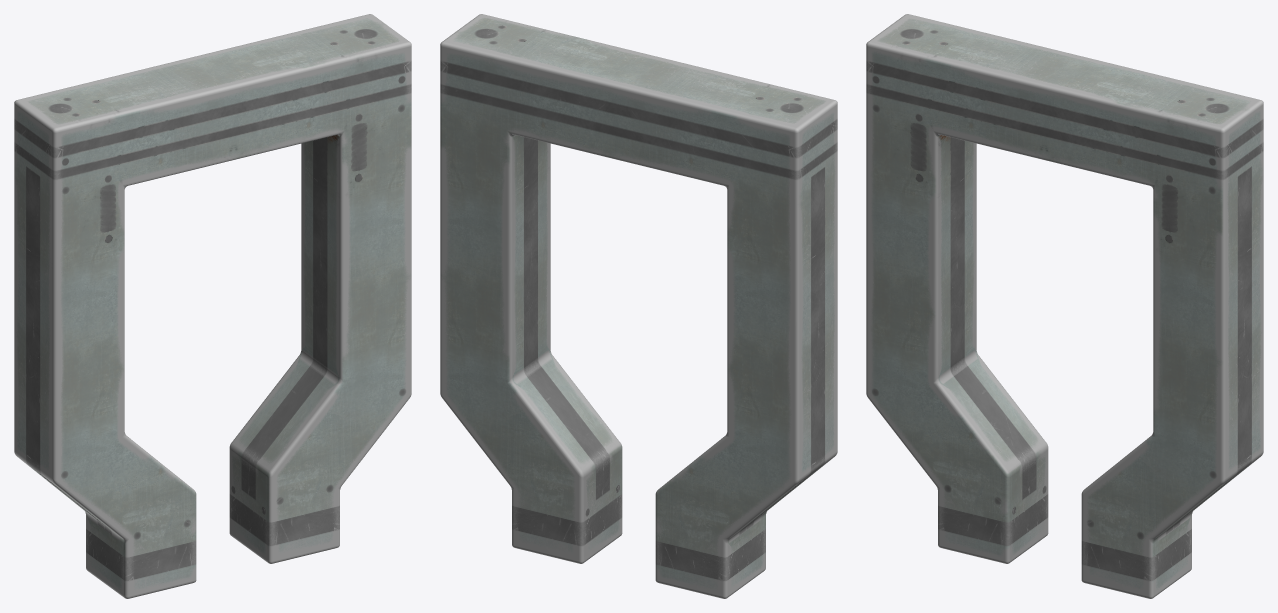
The model's file is Portal.fbx.
The picture shows the model from 3 angles, left to right: view 1: azimuth 30°, elevation 25°; view 2: azimuth 150°, elevation 25°; view 3: azimuth 330°, elevation 25°; orthographic projection.
Visible parts, largest first — view 1: Portal; view 2: Portal; view 3: Portal.
Part boxes in pixels (box(x1,y1,x2,y2)): Portal: box(14, 14, 411, 598); Portal: box(440, 14, 837, 598); Portal: box(866, 14, 1263, 598).
Bounding box in the file's own units: 5 × 6.5 × 1.
